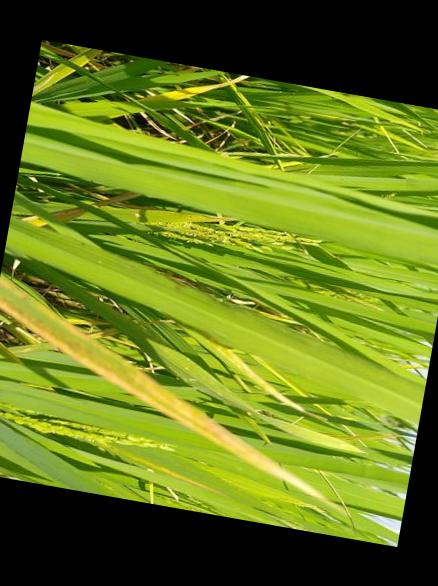Leaf Streak: (0, 272, 329, 502)
